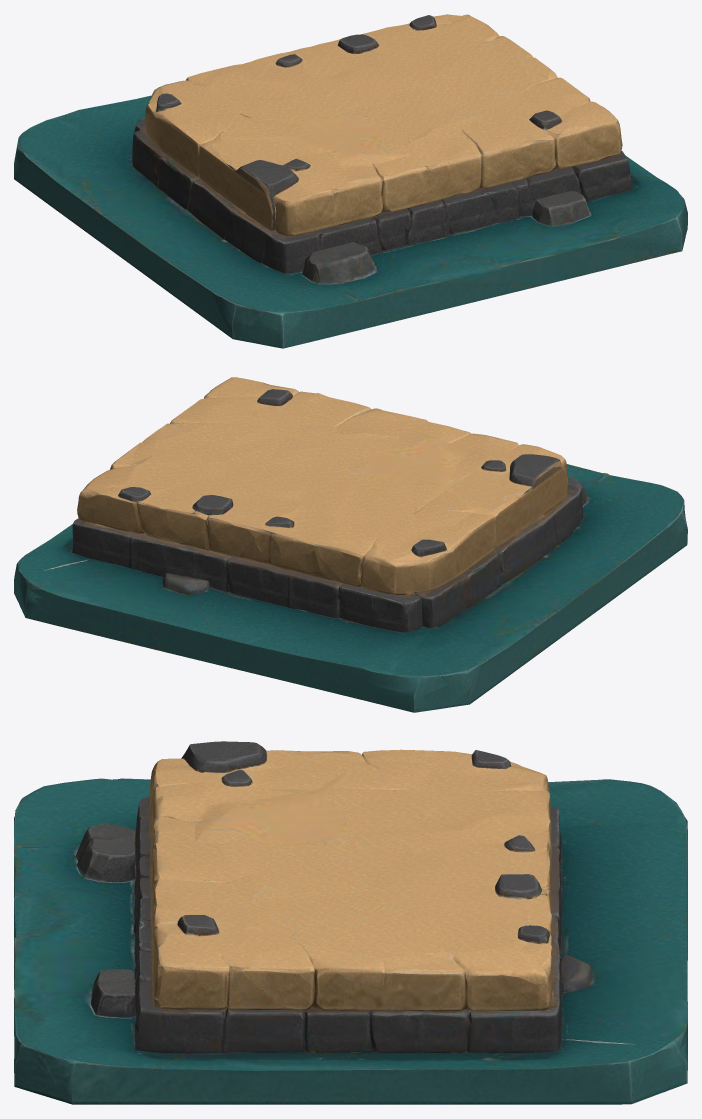
Rendered from lagoon-platform.glb.
3 renders of one model, top to bottom at view 1: azimuth 30°, elevation 25°; view 2: azimuth 150°, elevation 25°; view 3: azimuth 270°, elevation 25°, orthographic. The views are drawn at different scales.
Bounding box in the file's own units: 1.9 × 0.4071 × 1.9.
1 material, 1 textured.
